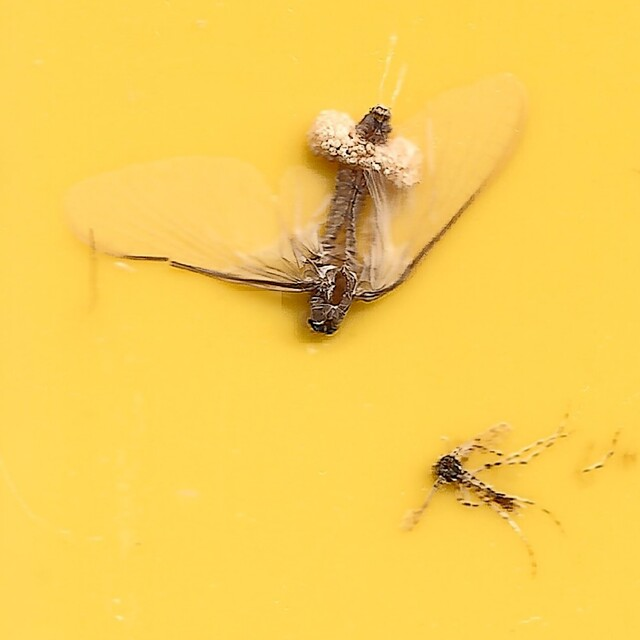Ephemeroptera: (67, 70, 536, 341)
Nematocera: (400, 424, 573, 570)
